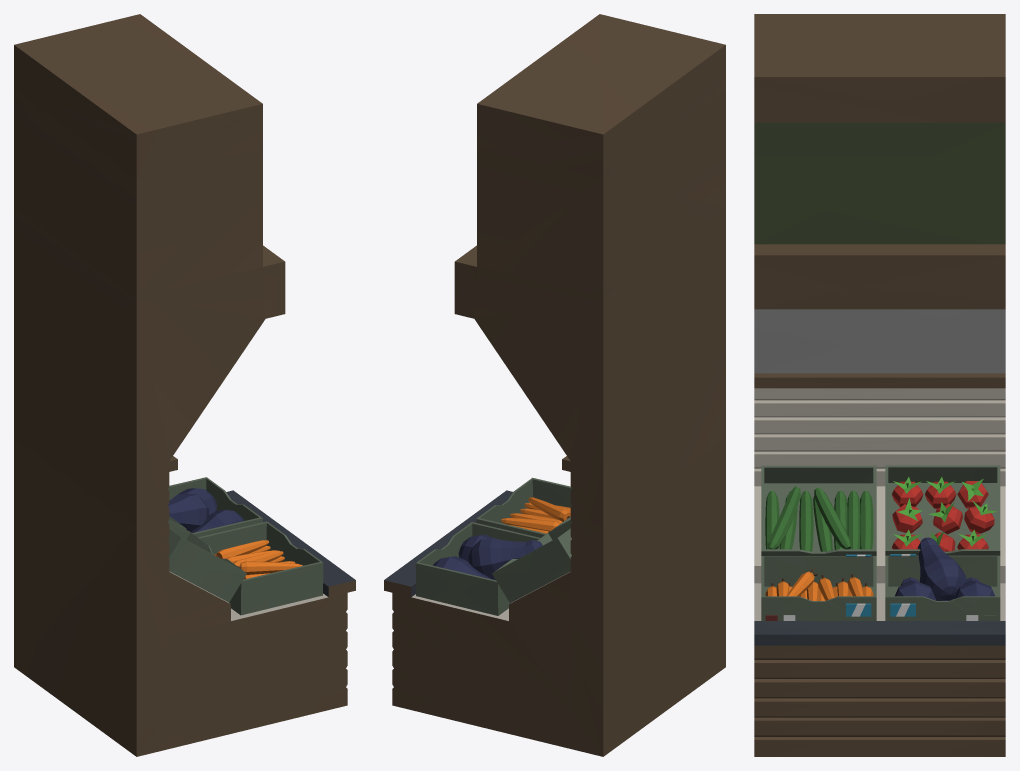
The model's file is SM_fruitShelve_03.glb.
3 views of the same model, side by side, from view 1: azimuth 30°, elevation 25°; view 2: azimuth 150°, elevation 25°; view 3: azimuth 270°, elevation 25° (orthographic). The views are drawn at different scales.
Visible parts, largest first — view 1: SM_fruitShelve_03; view 2: SM_fruitShelve_03; view 3: SM_fruitShelve_03.
Boxes of the visible parts, bbox=[...] form: SM_fruitShelve_03: bbox=[14, 14, 355, 756]; SM_fruitShelve_03: bbox=[384, 14, 725, 756]; SM_fruitShelve_03: bbox=[754, 14, 1005, 756].
Size of the model in its own units: 1.03 by 2.8 by 1.
Materials: 2 (1 with a texture image).
